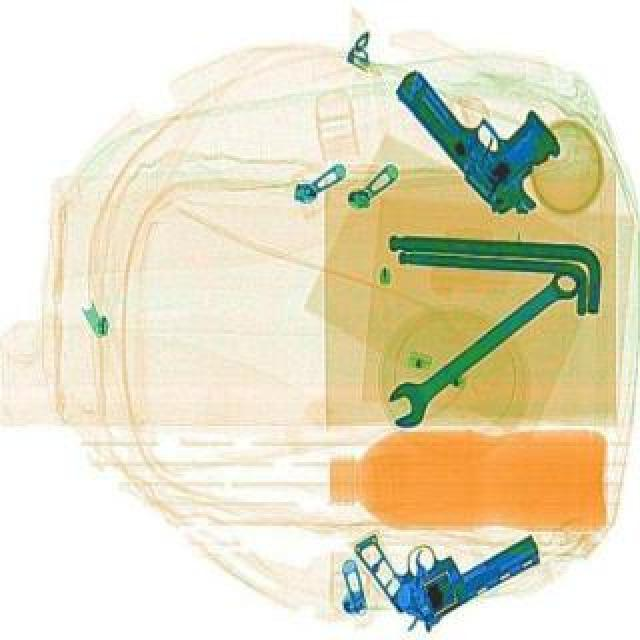gun: (382, 28, 592, 228), (352, 464, 552, 636)
scissors: (378, 254, 598, 432)
